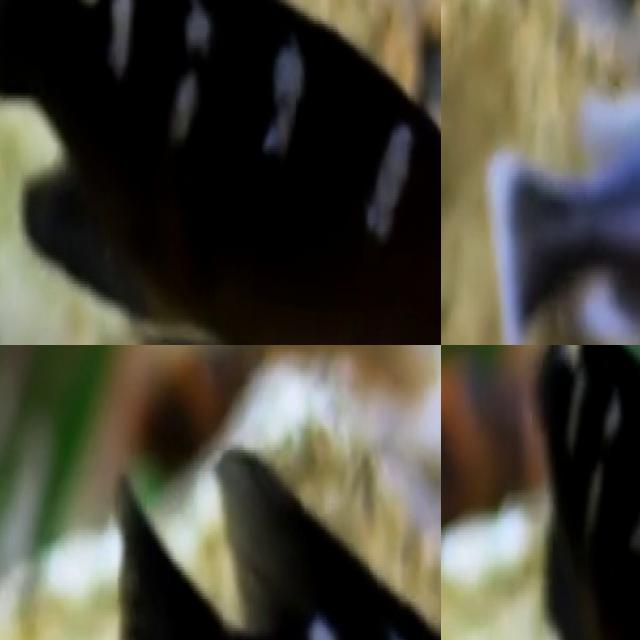fish: (0, 0, 441, 345), (477, 51, 640, 345), (441, 345, 532, 514)
